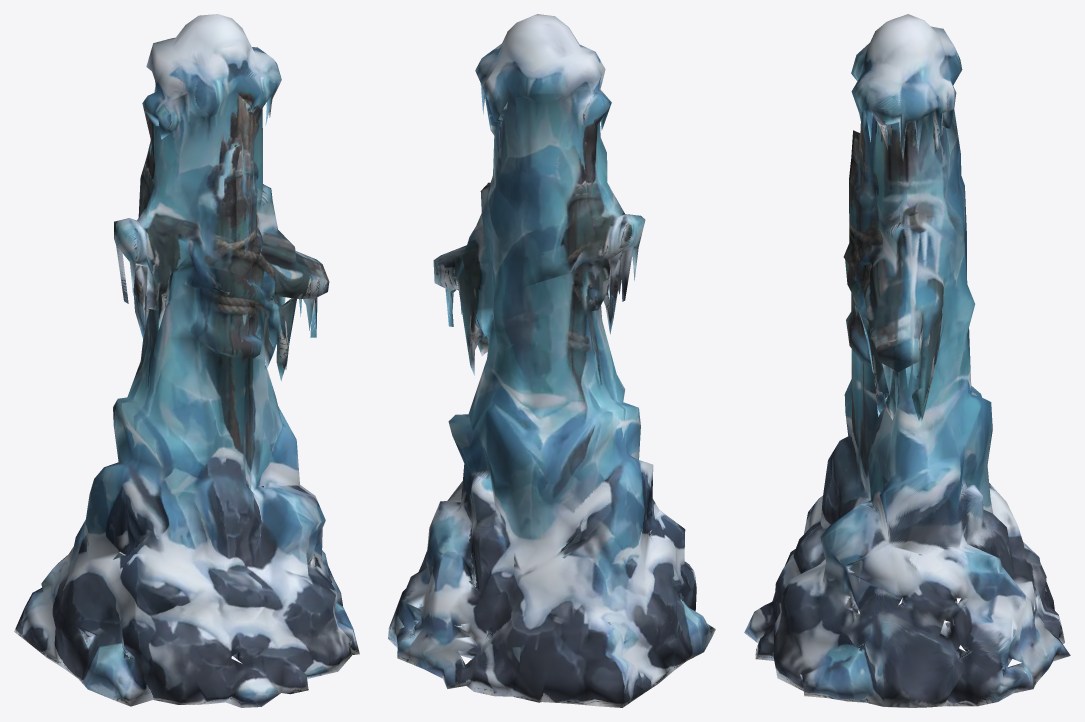
The model's file is SM_Tripo_FrostSeaColumn.glb.
The picture shows the model from 3 angles, left to right: view 1: azimuth 30°, elevation 25°; view 2: azimuth 150°, elevation 25°; view 3: azimuth 270°, elevation 25°; orthographic projection. The views are drawn at different scales.
Parts seen in each view (by area): view 1: SM_Tripo_FrostSeaColumn_LOD0; view 2: SM_Tripo_FrostSeaColumn_LOD0; view 3: SM_Tripo_FrostSeaColumn_LOD0.
Boxes of the visible parts, left/top/right/bottom form: SM_Tripo_FrostSeaColumn_LOD0: left=14, top=14, right=359, bottom=707; SM_Tripo_FrostSeaColumn_LOD0: left=388, top=14, right=715, bottom=707; SM_Tripo_FrostSeaColumn_LOD0: left=744, top=14, right=1070, bottom=707.
Size of the model in its own units: 2.21 by 4.96 by 2.33.
1 material, 1 textured.
